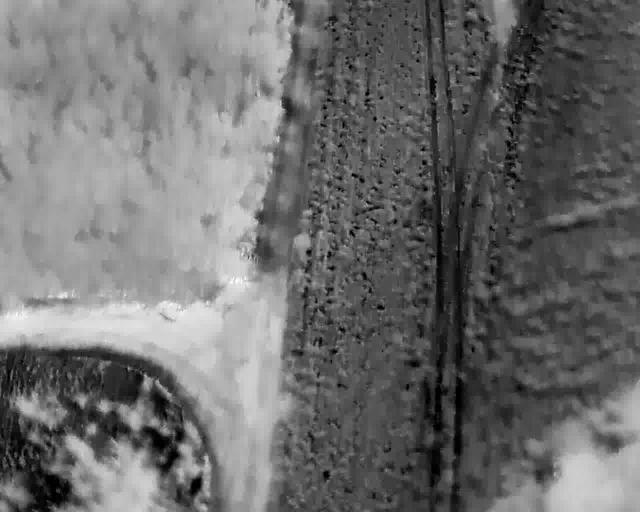car: (290, 398, 318, 456)
